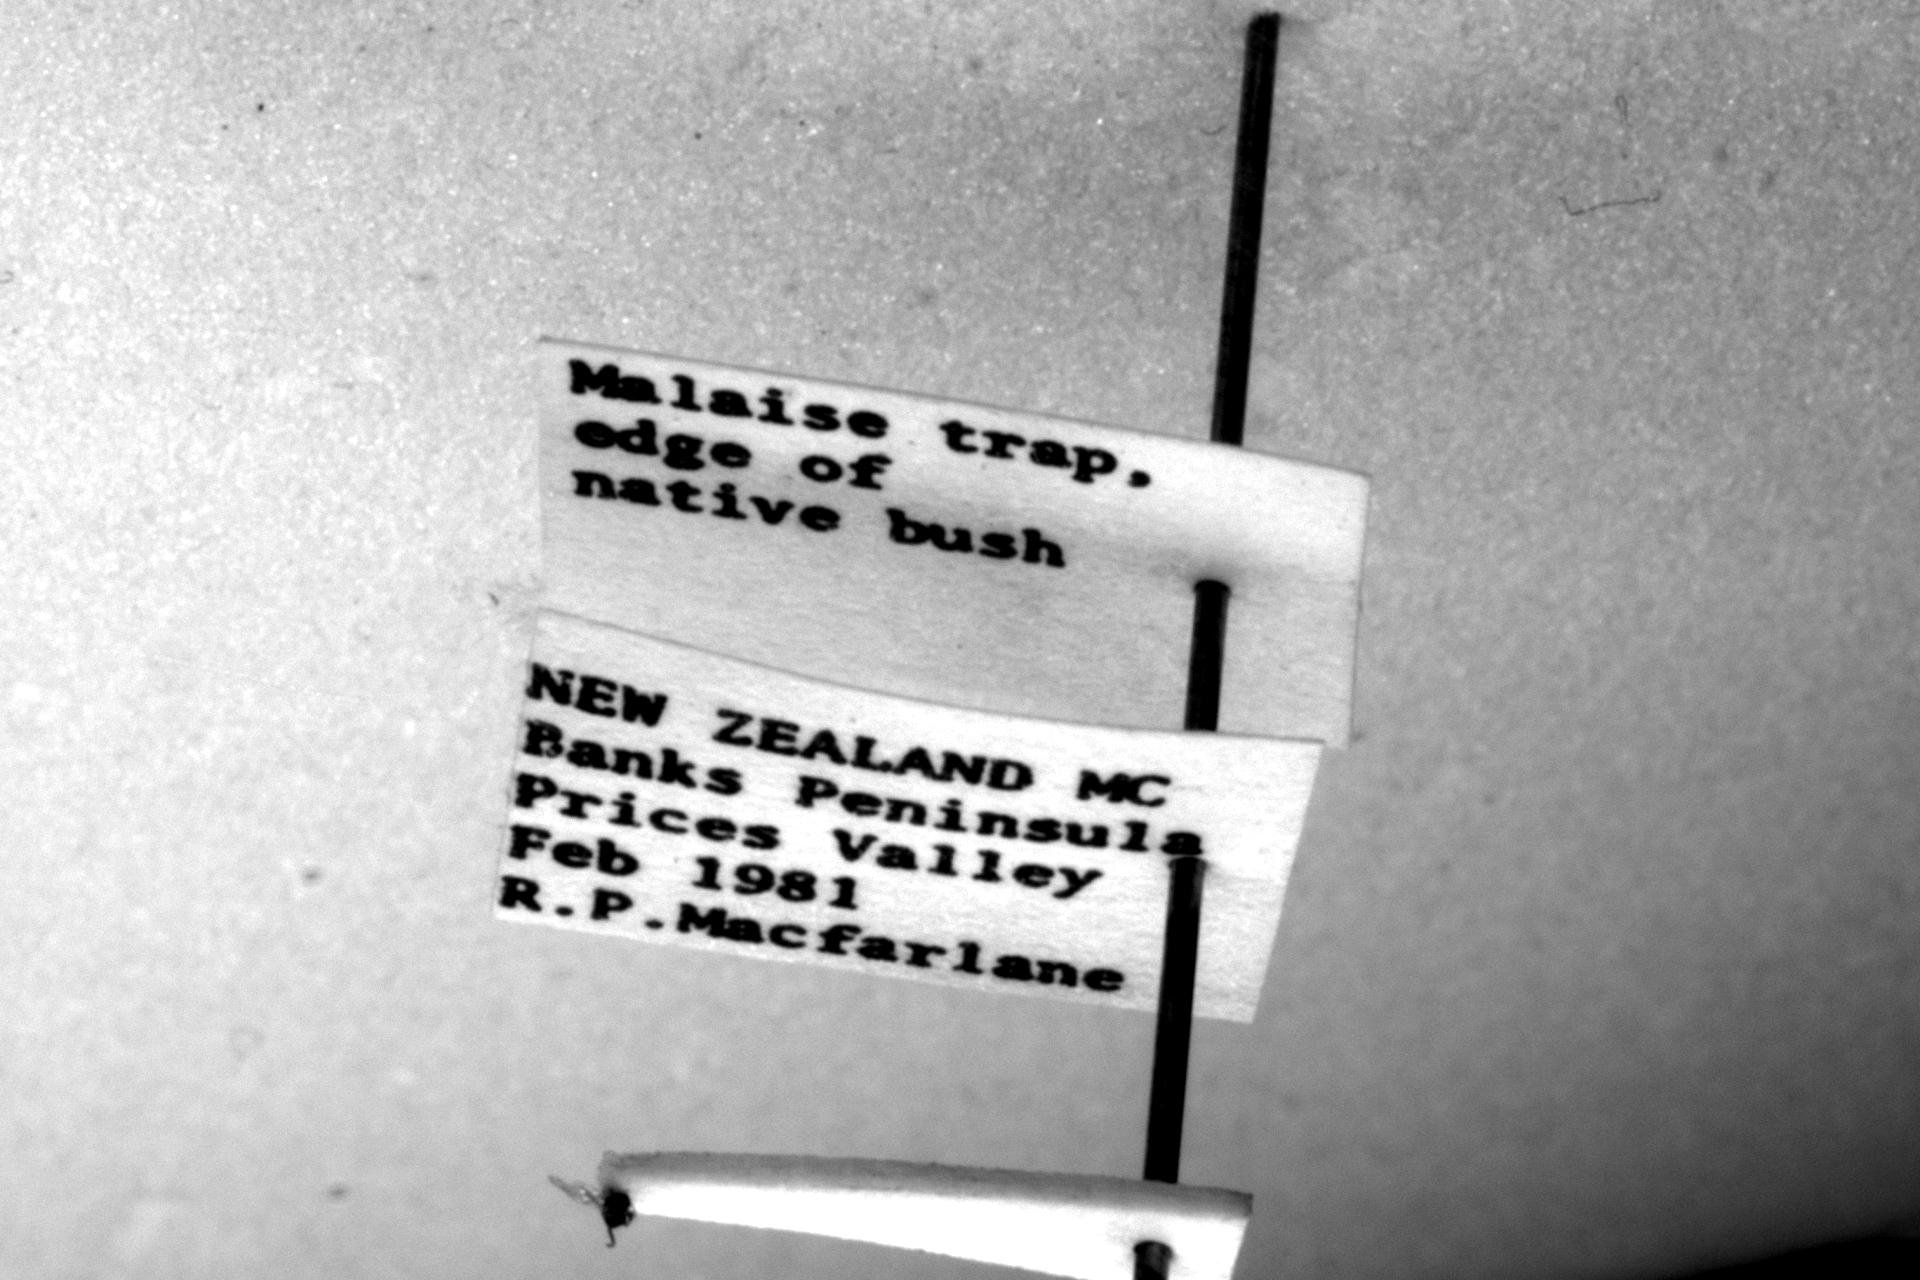typed_label: (494, 611, 1320, 1020), (540, 341, 1369, 746)
